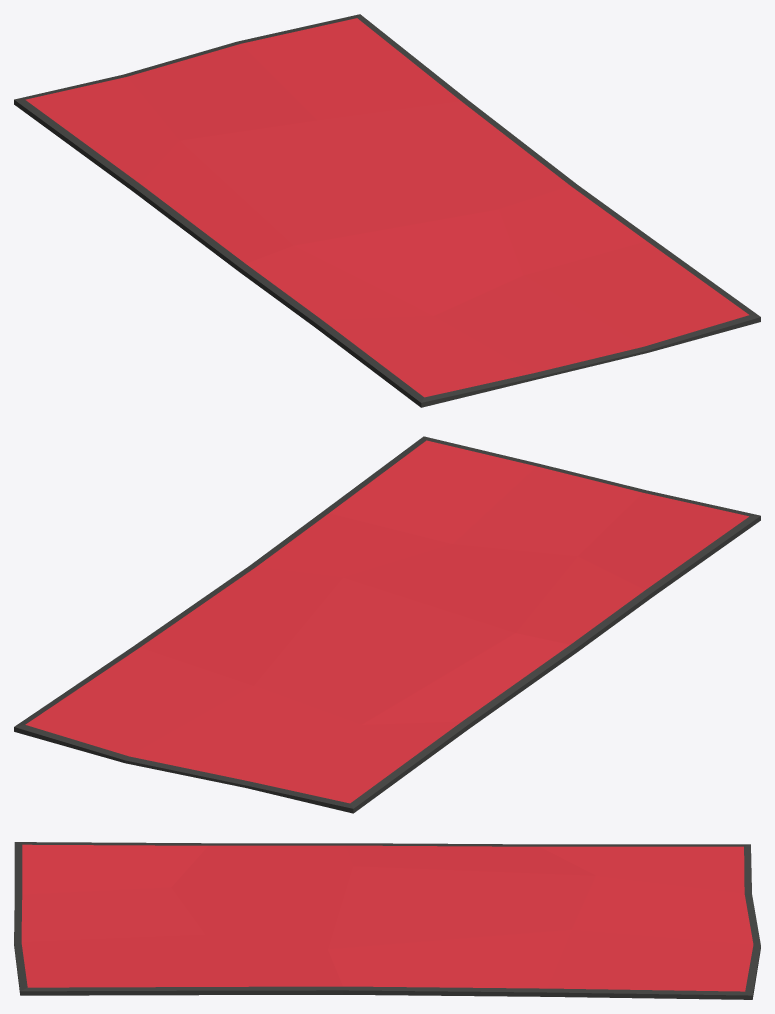
Rendered from Carpet_02.fbx.
3 views of the same model, one above another, from view 1: azimuth 30°, elevation 25°; view 2: azimuth 150°, elevation 25°; view 3: azimuth 270°, elevation 25° (orthographic). The views are drawn at different scales.
Parts seen in each view (by area): view 1: Carpet_02; view 2: Carpet_02; view 3: Carpet_02.
Boxes of the visible parts, bbox=[...] form: Carpet_02: bbox=[14, 14, 760, 407]; Carpet_02: bbox=[14, 436, 760, 813]; Carpet_02: bbox=[14, 842, 760, 999].
Bounding box in the file's own units: 217 × 4.81 × 445.
